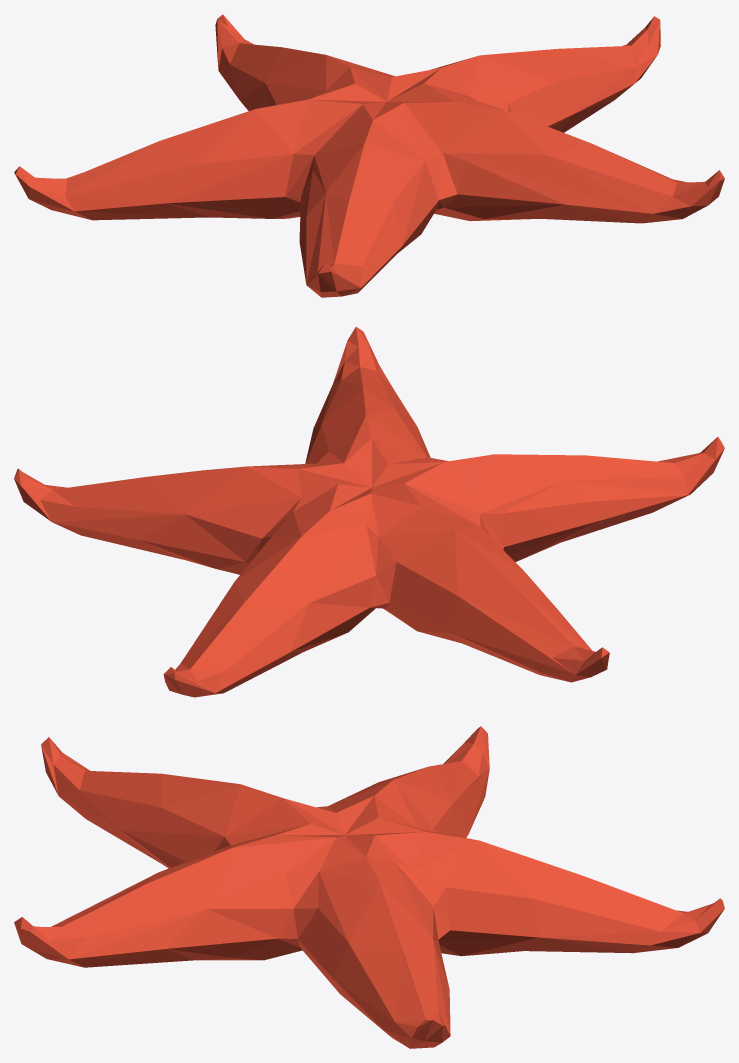
File: Haixing1.fbx
The picture shows the model from 3 angles, top to bottom: view 1: azimuth 30°, elevation 25°; view 2: azimuth 150°, elevation 25°; view 3: azimuth 270°, elevation 25°; orthographic projection. The views are drawn at different scales.
Visible parts, largest first — view 1: samor_2025_07; view 2: samor_2025_07; view 3: samor_2025_07.
Boxes of the visible parts, left/top/right/bottom form: samor_2025_07: left=14, top=14, right=724, bottom=297; samor_2025_07: left=14, top=327, right=724, bottom=697; samor_2025_07: left=14, top=726, right=724, bottom=1048.
Size of the model in its own units: 392 by 71.09 by 380.
